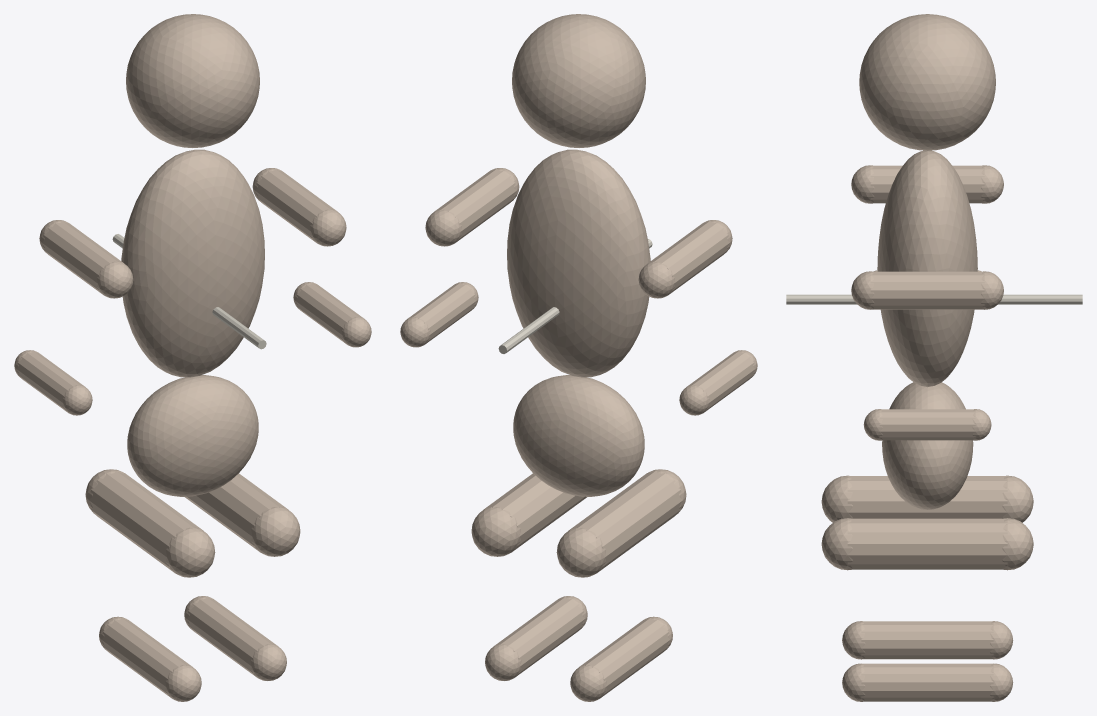
File: full-body-reference.glb
3 views of the same model, side by side, from view 1: azimuth 30°, elevation 25°; view 2: azimuth 150°, elevation 25°; view 3: azimuth 270°, elevation 25° (orthographic).
Parts seen in each view (by area): view 1: world; view 2: world; view 3: world.
Part boxes in pixels (x1,y1,x2,y2): world: (14,14,371,701); world: (400,14,757,701); world: (786,14,1082,701).
Bounding box in the file's own units: 1.58 × 3.19 × 1.3.
